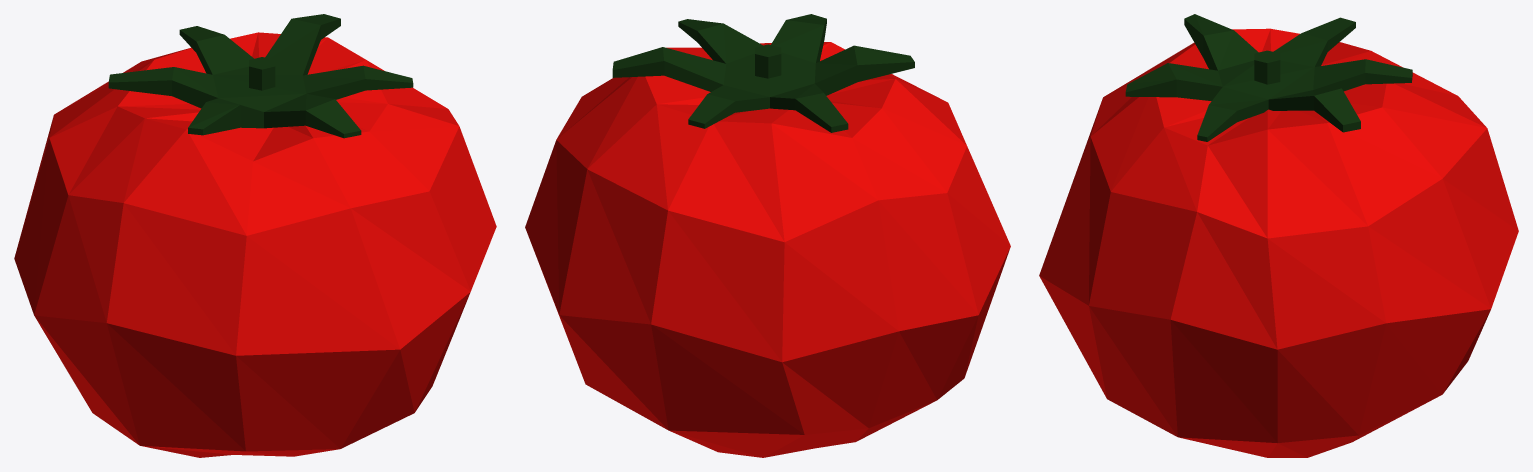
Rendered from Tomato_red.fbx.
3 views of the same model, side by side, from view 1: azimuth 30°, elevation 25°; view 2: azimuth 150°, elevation 25°; view 3: azimuth 270°, elevation 25° (orthographic).
Parts seen in each view (by area): view 1: Sphere002; view 2: Sphere002; view 3: Sphere002.
Part boxes in pixels (box(x1,y1,x2,y2)): Sphere002: box(14, 14, 496, 457); Sphere002: box(525, 14, 1010, 457); Sphere002: box(1039, 14, 1518, 457).
Size of the model in its own units: 1.4 by 1.16 by 1.36.
